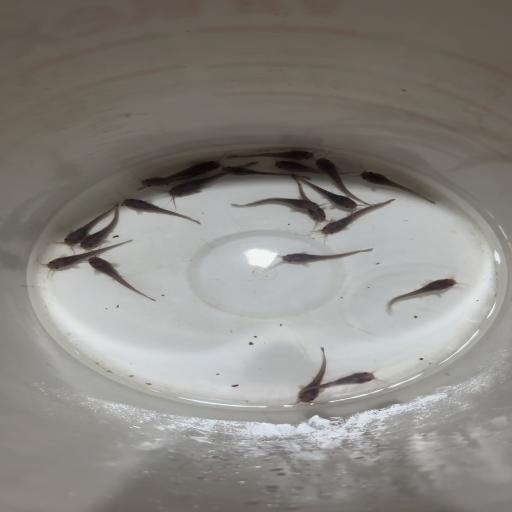lele: (166, 160, 259, 200), (318, 196, 398, 240), (381, 275, 465, 316), (288, 368, 384, 403), (86, 256, 156, 302), (36, 239, 134, 271), (311, 155, 369, 205), (357, 169, 437, 204), (262, 246, 374, 269), (116, 196, 200, 225), (292, 174, 360, 209), (62, 204, 118, 246), (292, 347, 330, 407), (288, 174, 332, 224), (80, 201, 125, 249), (268, 158, 362, 176), (219, 164, 310, 180), (225, 196, 320, 210), (224, 148, 317, 162), (170, 158, 222, 178), (132, 173, 192, 187)
